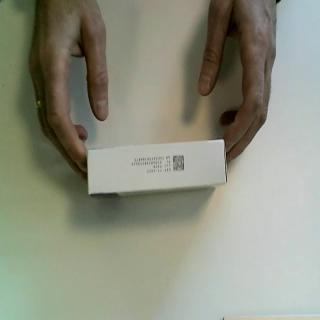ultiva5mg: (86, 138, 230, 202)
